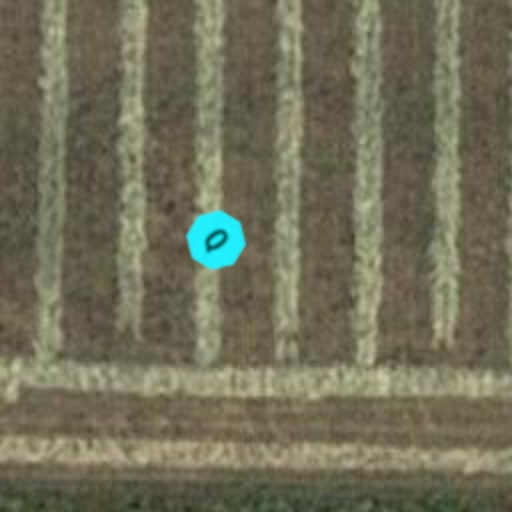octagon: (172, 196, 260, 284)
